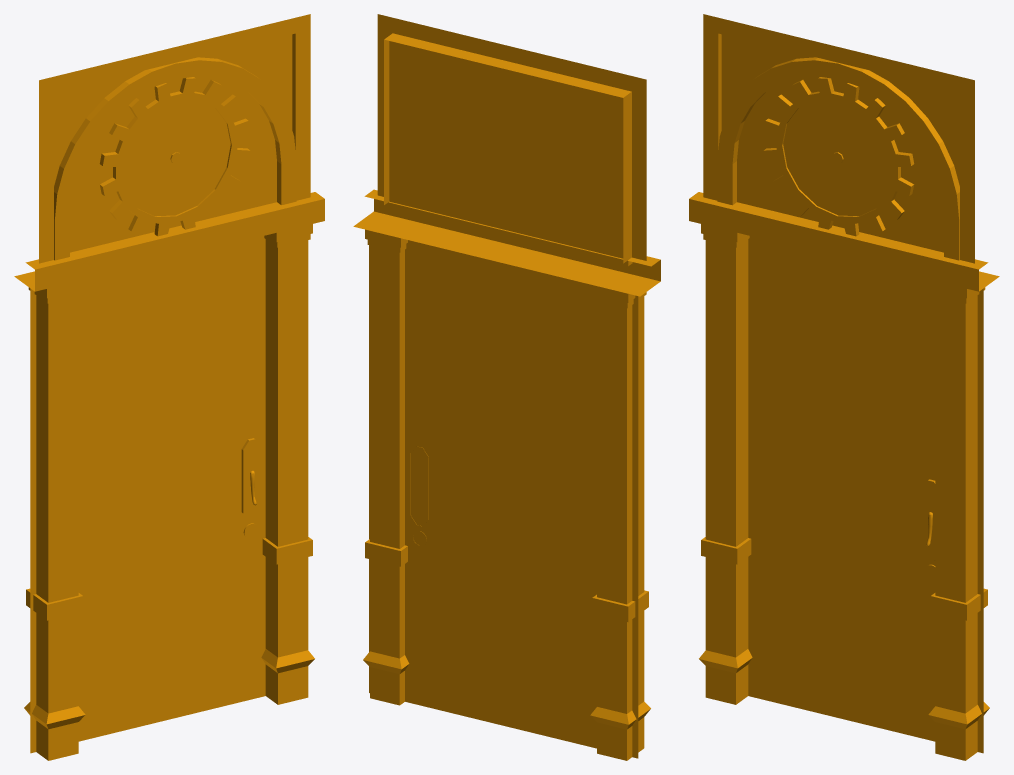
Rendered from SM_door.fbx.
The picture shows the model from 3 angles, left to right: view 1: azimuth 30°, elevation 25°; view 2: azimuth 150°, elevation 25°; view 3: azimuth 330°, elevation 25°; orthographic projection.
Visible parts, largest first — view 1: cafe_door; view 2: cafe_door; view 3: cafe_door.
Boxes of the visible parts, x1,y1,x2,y2 form: cafe_door: (14, 14, 324, 760); cafe_door: (353, 14, 660, 760); cafe_door: (689, 14, 999, 760).
Size of the model in its own units: 192 by 430 by 25.94.
